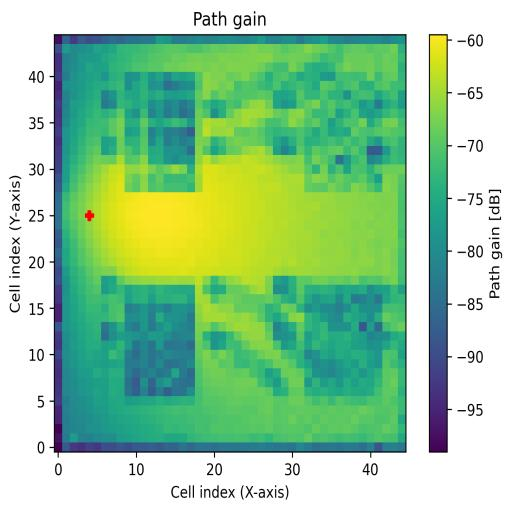Concrete: (305, 74, 384, 193)
Glass: (124, 70, 196, 192)
Metal: (306, 285, 382, 394)
Wood: (124, 284, 196, 396)
